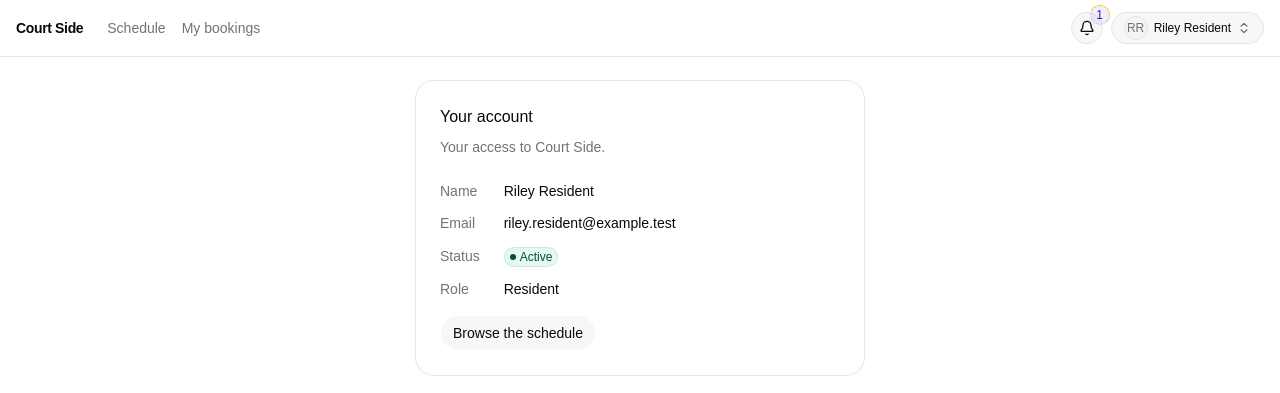
Test: notifications › opens the header feed and marks notifications read
The image size is (1280, 393).
Click the button named "Notifications, 1 unread".
click(1087, 28)  # box x1=1071 y1=12 x2=1103 y2=44
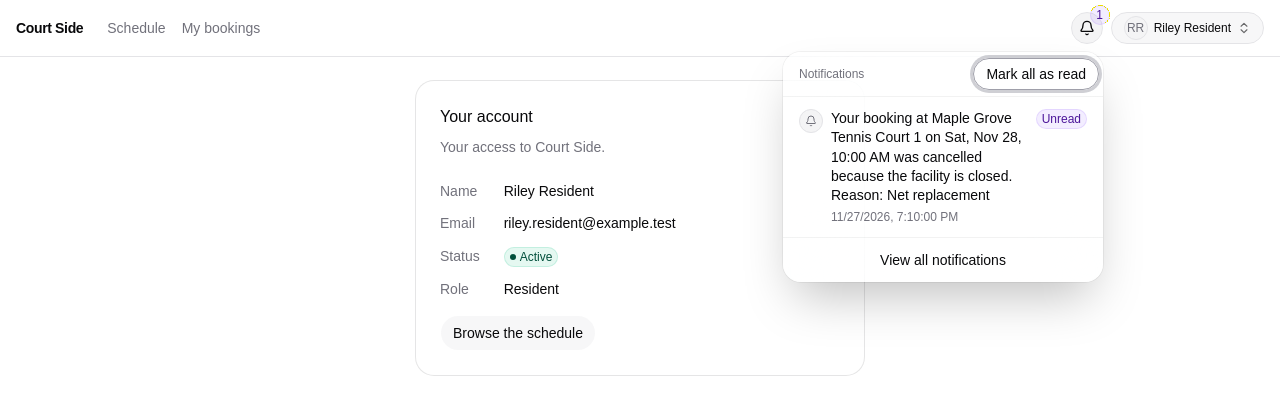
Result: the text "Your booking at Maple Grove Tennis Court 1 on Sat, Nov 28, 10:00 AM was cancelled because the facility is closed. Reason" is shown at x1=831 y1=110 x2=1022 y2=203
Click the button "Mark all as read".
click(1036, 74)  # box x1=973 y1=58 x2=1099 y2=90
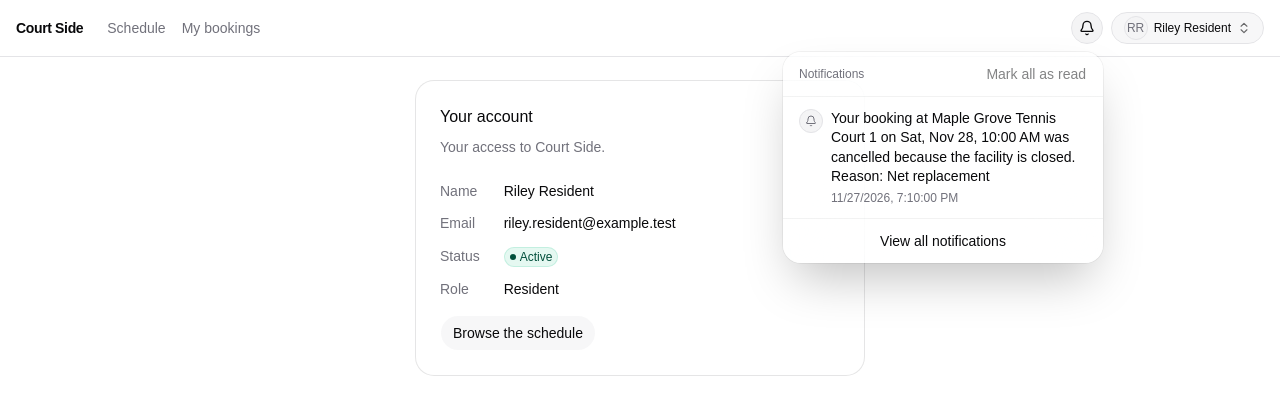
Result: the button "Mark all as read" is disabled at x1=973 y1=58 x2=1099 y2=90
Press Escape
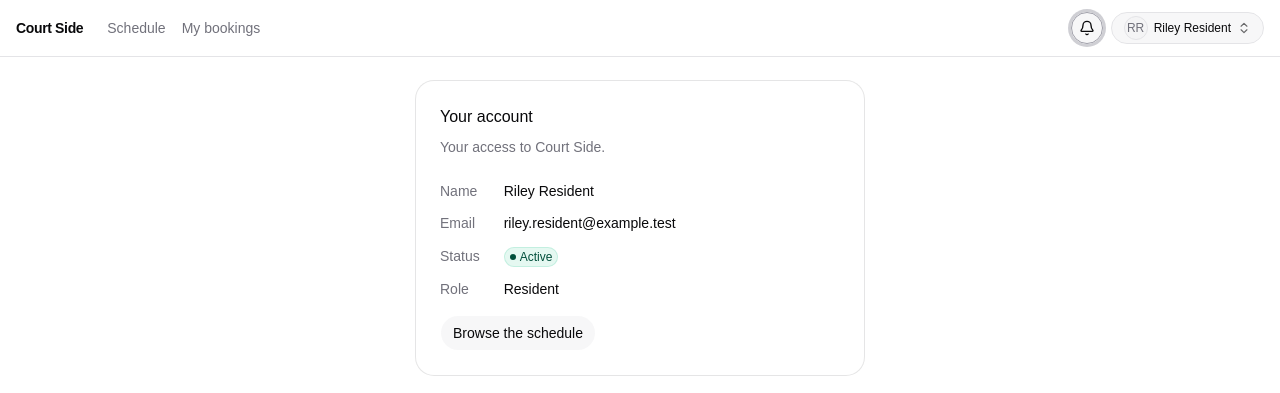
Result: the menu is gone
